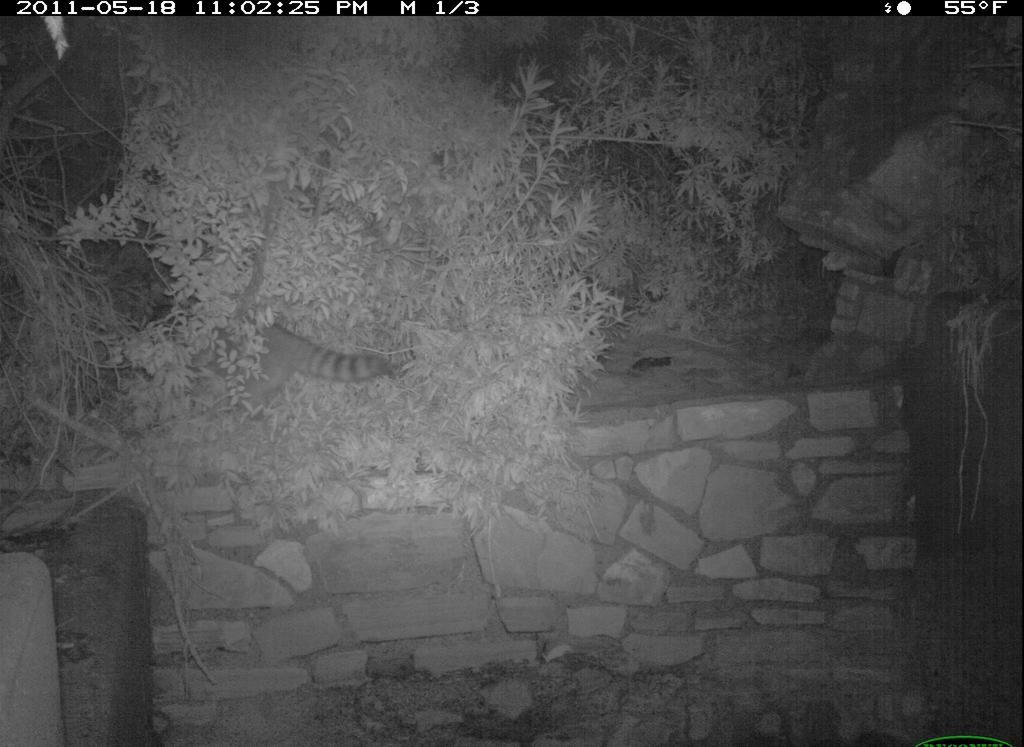raccoon: (167, 294, 399, 458)
